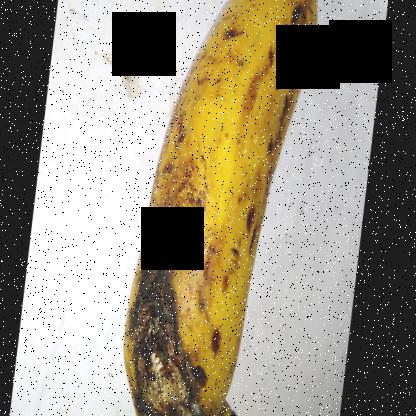ripe: (118, 0, 338, 264)
rotten: (112, 234, 235, 415)
